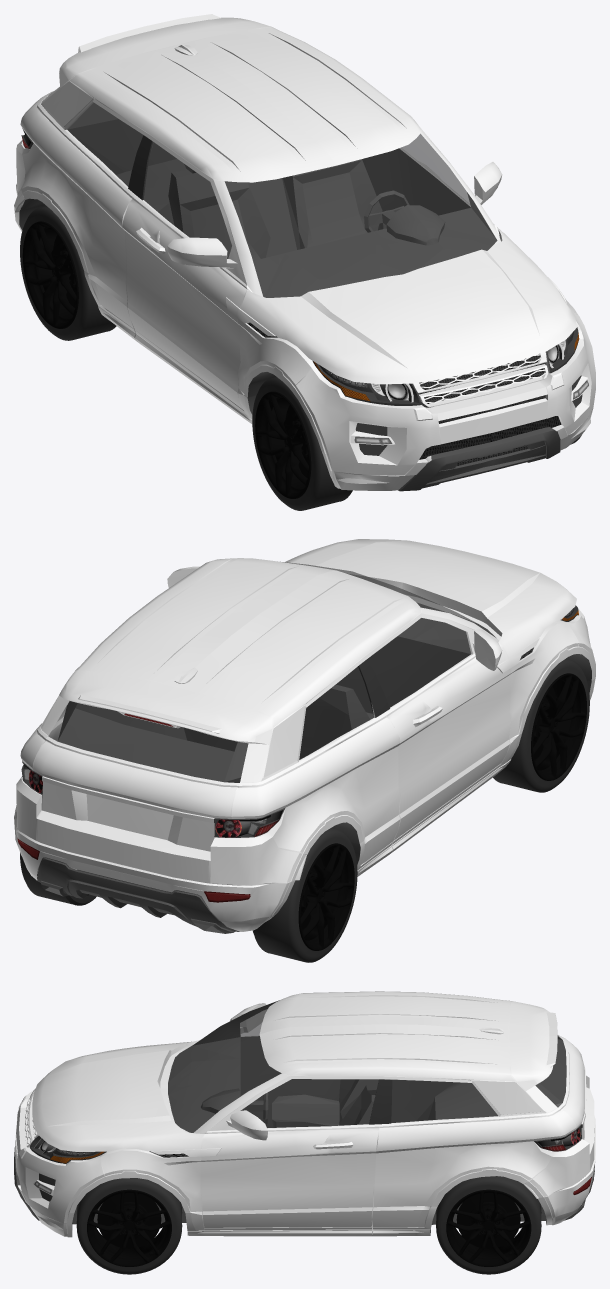
Rendered from range_rover_evoque.glb.
3 renders of one model, top to bottom at view 1: azimuth 30°, elevation 25°; view 2: azimuth 150°, elevation 25°; view 3: azimuth 270°, elevation 25°, orthographic. The views are drawn at different scales.
Parts seen in each view (by area): view 1: Remolque_Body_0, Remolque_Body_1, Remolque_Body_2, wheel_rf02_pivot.001, Remolque_Details_0, wheel_rf02_pivot.002, Remolque_Underbody_0, Remolque_SteeringWheel_0; view 2: Remolque_Body_0, Remolque_Body_1, Remolque_Body_2, wheel_rf02_pivot.002, wheel_rf02_pivot.001, Remolque_Details_0, wheel_rf02_pivot.003, Remolque_Underbody_0; view 3: Remolque_Body_0, Remolque_Body_1, Remolque_Body_2, wheel_rf02_pivot.003, wheel_rf02_pivot, Remolque_Details_0, Remolque_Underbody_0.
Boxes of the visible parts, left/top/right/bottom form: Remolque_Body_0: left=14, top=14, right=595, bottom=491; Remolque_Body_1: left=49, top=94, right=496, bottom=297; Remolque_Body_2: left=67, top=103, right=497, bottom=297; wheel_rf02_pivot.001: left=252, top=377, right=352, bottom=510; Remolque_Details_0: left=21, top=128, right=588, bottom=466; wheel_rf02_pivot.002: left=20, top=206, right=116, bottom=340; Remolque_Underbody_0: left=19, top=198, right=398, bottom=490; Remolque_SteeringWheel_0: left=364, top=190, right=409, bottom=232; Remolque_Body_0: left=14, top=539, right=595, bottom=933; Remolque_Body_1: left=48, top=561, right=495, bottom=782; Remolque_Body_2: left=58, top=603, right=495, bottom=856; wheel_rf02_pivot.002: left=253, top=828, right=357, bottom=962; wheel_rf02_pivot.001: left=493, top=659, right=589, bottom=792; Remolque_Details_0: left=17, top=605, right=578, bottom=902; wheel_rf02_pivot.003: left=20, top=852, right=96, bottom=905; Remolque_Underbody_0: left=331, top=654, right=591, bottom=864; Remolque_Body_0: left=14, top=991, right=595, bottom=1237; Remolque_Body_1: left=168, top=1001, right=566, bottom=1132; Remolque_Body_2: left=168, top=1001, right=566, bottom=1132; wheel_rf02_pivot.003: left=436, top=1176, right=541, bottom=1274; wheel_rf02_pivot: left=76, top=1178, right=182, bottom=1274; Remolque_Details_0: left=30, top=1089, right=591, bottom=1201; Remolque_Underbody_0: left=38, top=1202, right=546, bottom=1233.
Bounding box in the file's own units: 2.18 × 1.65 × 4.33.
16 materials, 7 textured.
